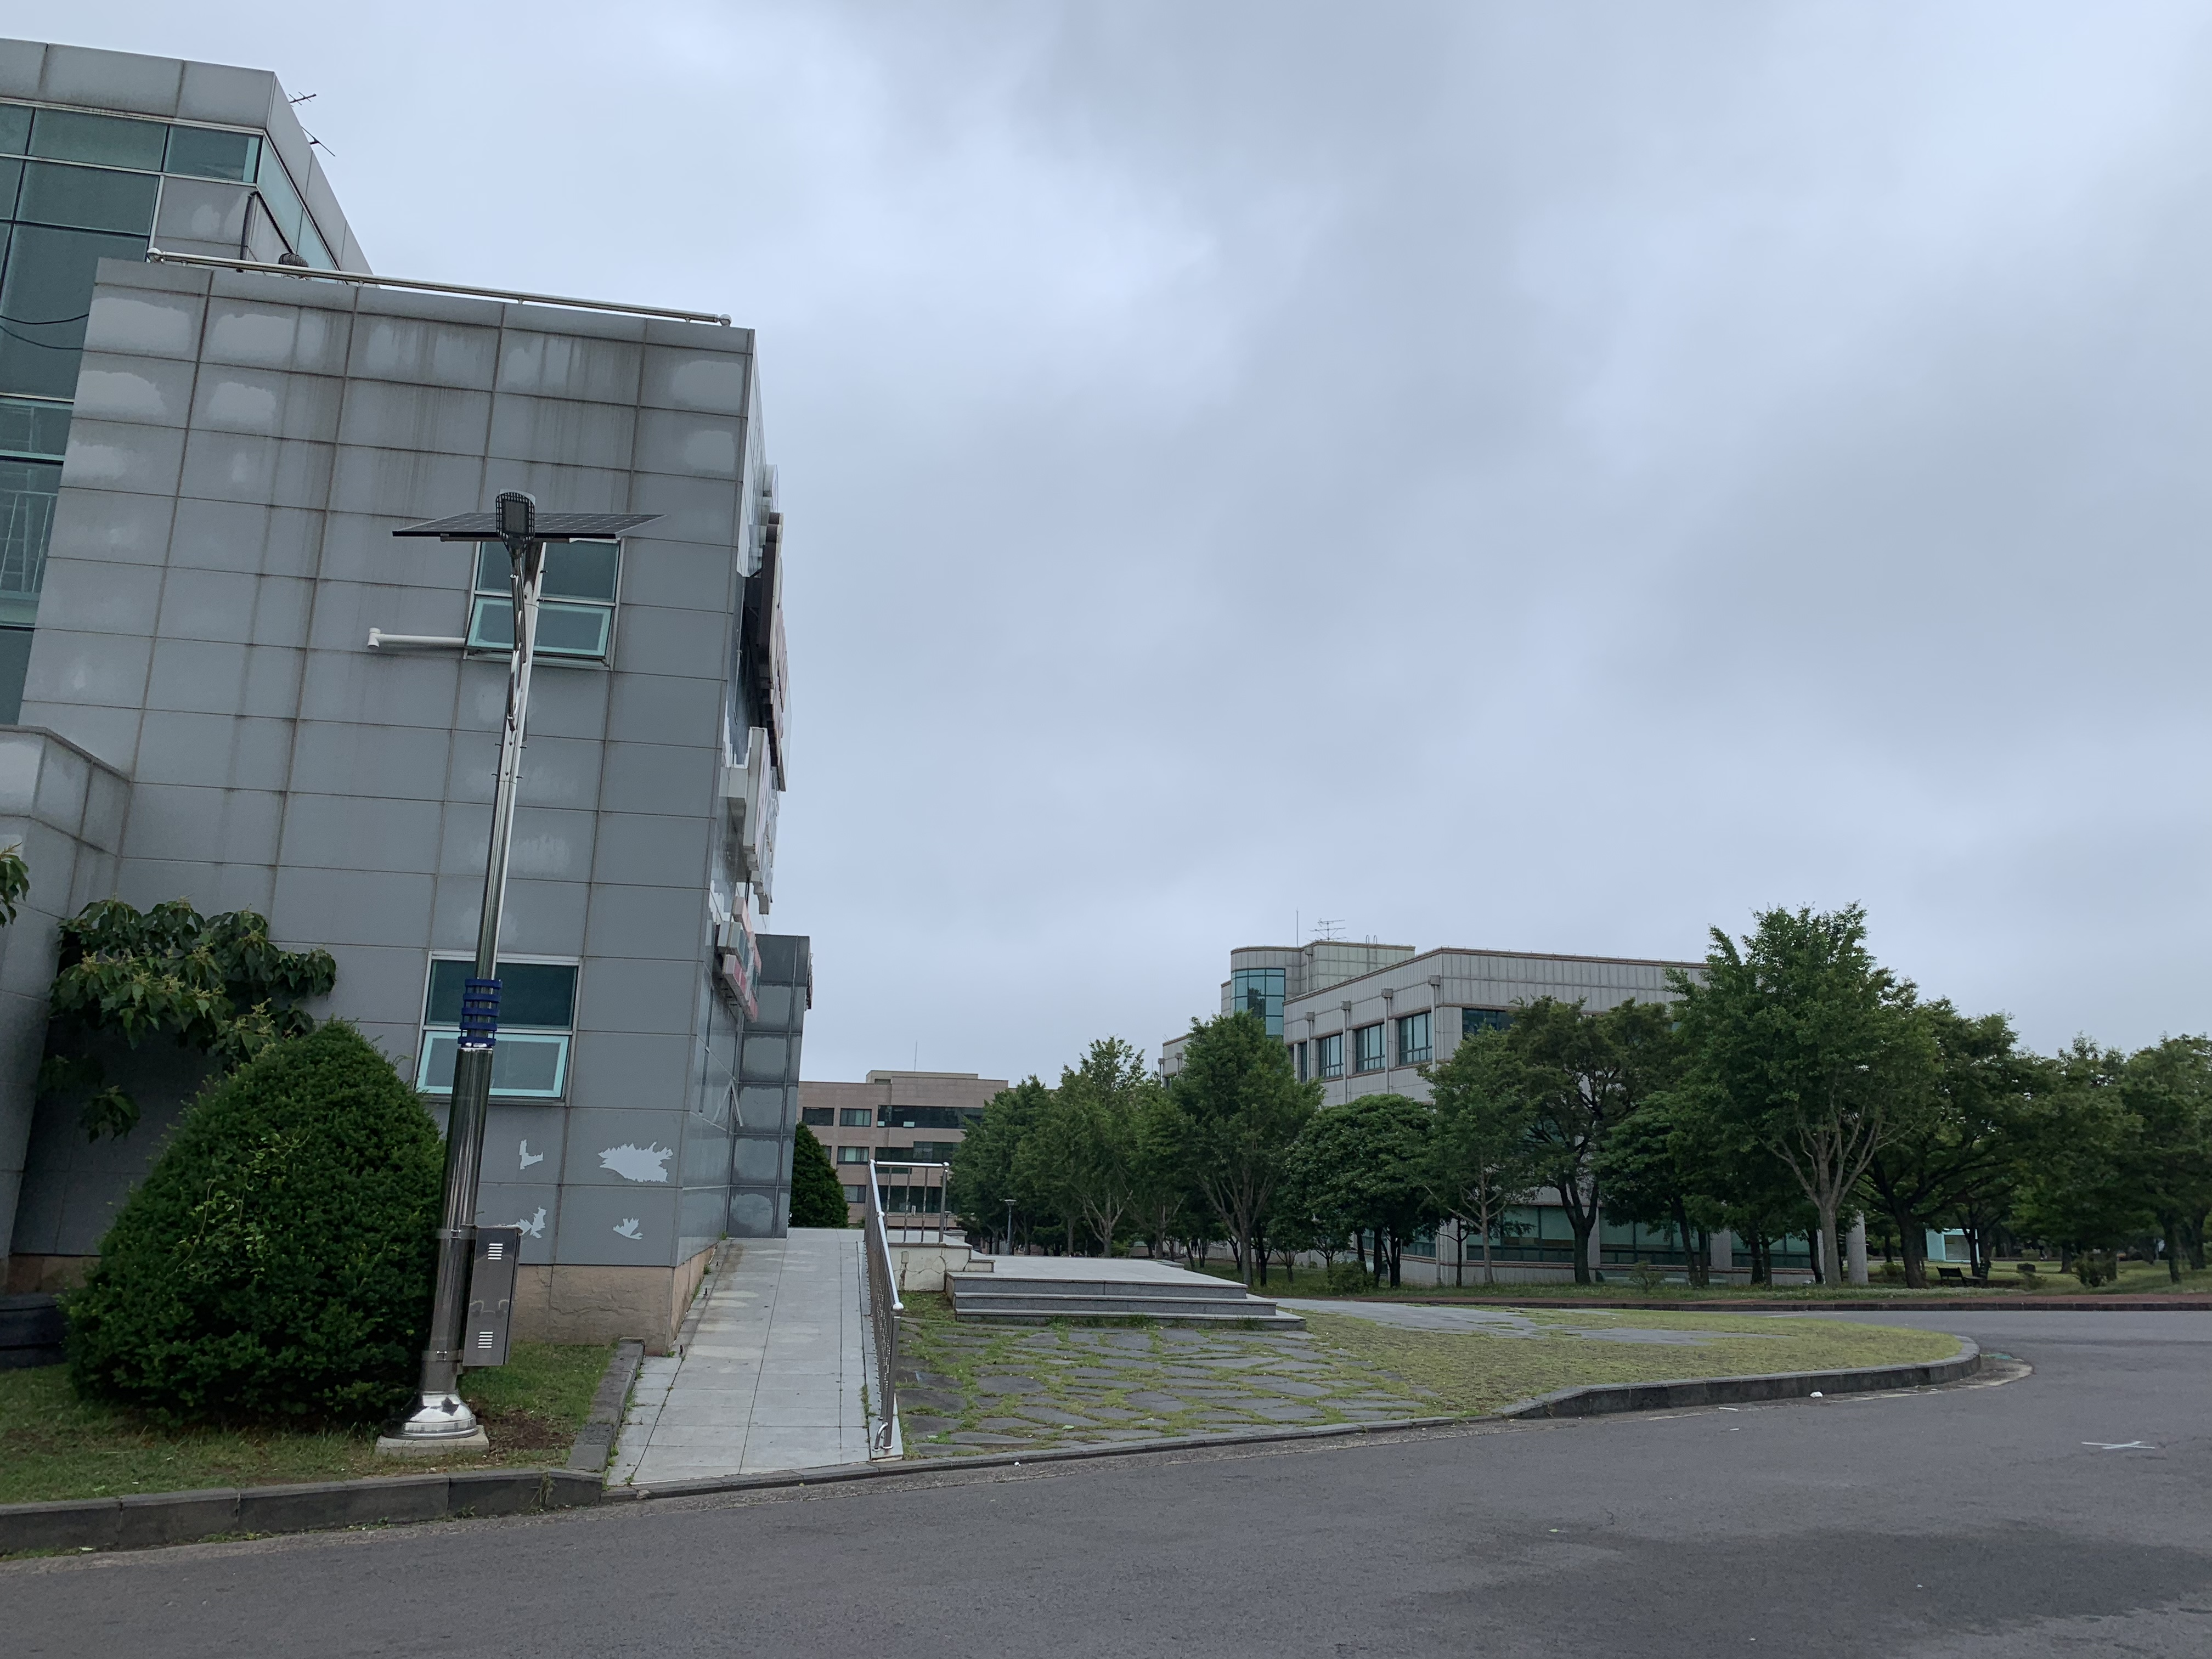Global House: (9, 37, 822, 1460)
Joint Experimental Labs: (799, 1073, 1055, 1256)
Second Library: (1226, 938, 1703, 1087), (1432, 1173, 1810, 1288)
